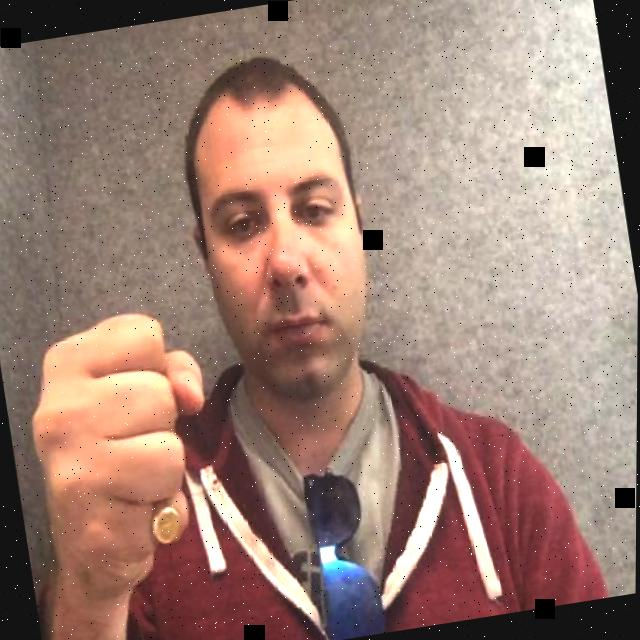Rock: (9, 296, 243, 610)
